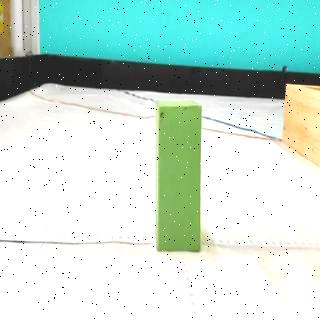greenbox: (152, 98, 204, 254)
